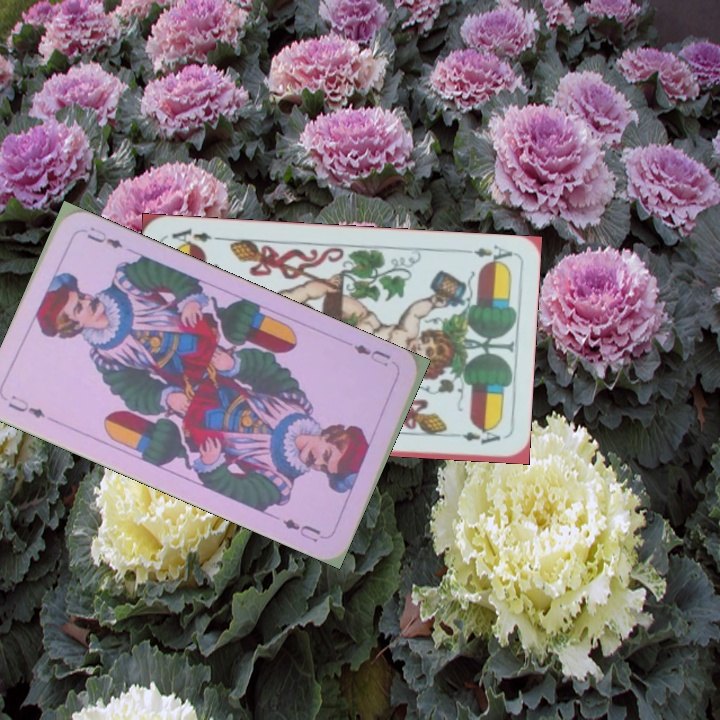EA: (456, 240, 515, 268)
EU: (4, 390, 48, 421), (349, 340, 394, 370)
